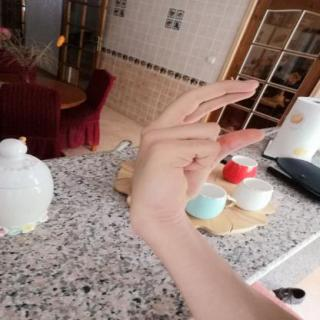DHELL: (122, 71, 273, 224)
